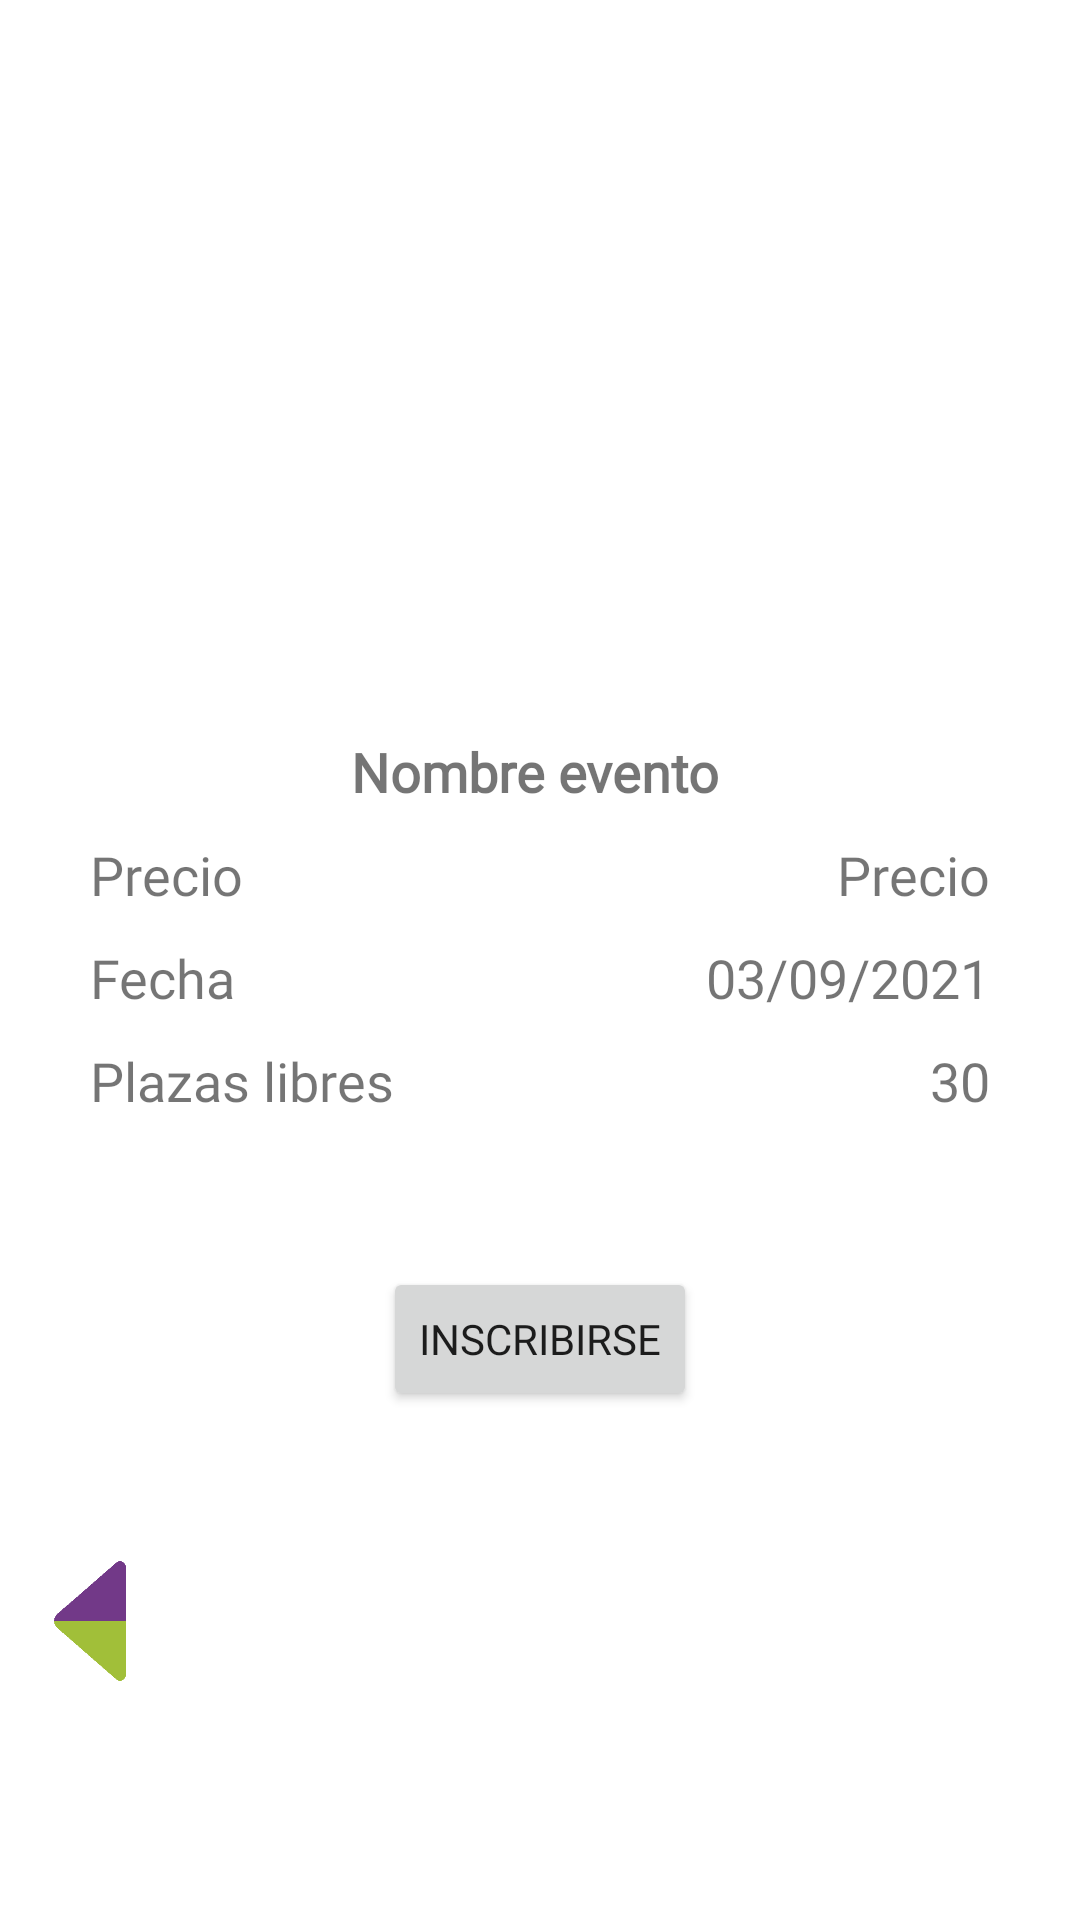

Icons on this 1080×1920 Android screen, each with the point to tap as (x=x, y=y):
volver sc: (x=90, y=1621)
